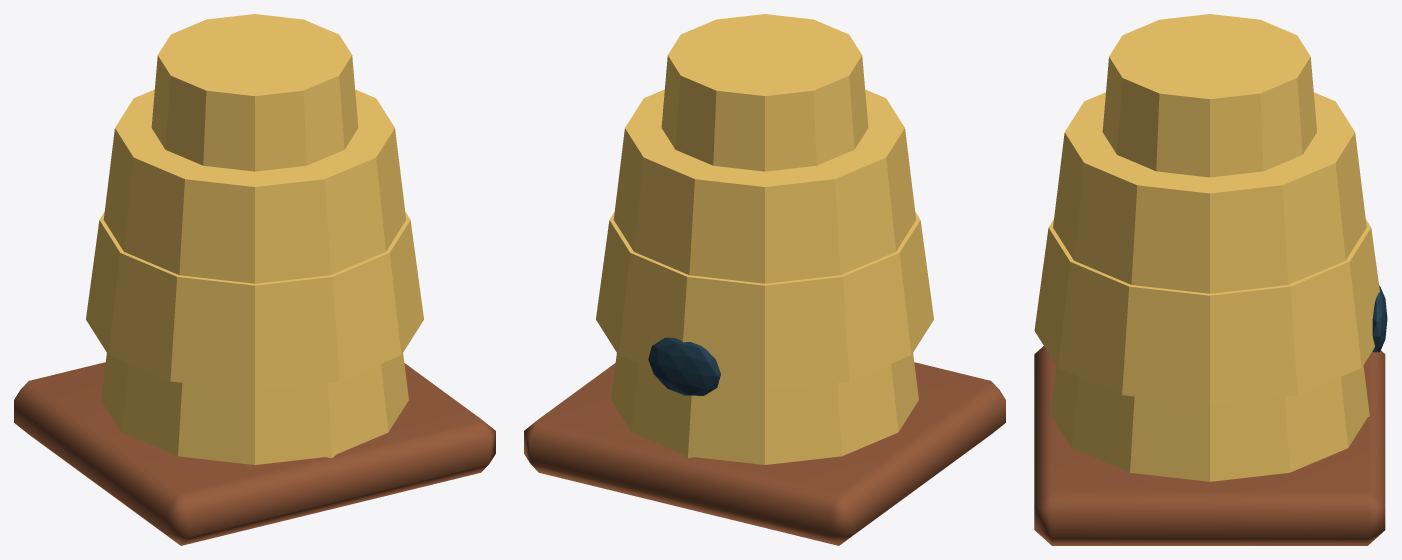
File: hive.glb
3 renders of one model, left to right at view 1: azimuth 30°, elevation 25°; view 2: azimuth 150°, elevation 25°; view 3: azimuth 270°, elevation 25°, orthographic. The views are drawn at different scales.
Parts seen in each view (by area): view 1: Hive ring.002, Hive ring.001, Stand, Hive ring.003, Hive ring; view 2: Hive ring.002, Stand, Hive ring.001, Hive ring.003, Hive ring, Entrance; view 3: Hive ring.002, Hive ring.001, Stand, Hive ring.003, Hive ring, Entrance.
Part boxes in pixels (x1,y1,x2,y2): Hive ring.002: (103, 89, 406, 283); Hive ring.001: (86, 212, 423, 390); Stand: (14, 362, 495, 545); Hive ring.003: (151, 14, 358, 171); Hive ring: (101, 353, 408, 464); Hive ring.002: (613, 89, 916, 283); Stand: (524, 362, 1005, 545); Hive ring.001: (596, 212, 933, 390); Hive ring.003: (661, 14, 868, 171); Hive ring: (611, 353, 918, 464); Entrance: (648, 337, 720, 395); Hive ring.002: (1053, 92, 1366, 293); Hive ring.001: (1034, 219, 1379, 404); Stand: (1034, 346, 1385, 545); Hive ring.003: (1102, 14, 1316, 177); Hive ring: (1050, 365, 1369, 481); Entrance: (1372, 285, 1387, 352).
Size of the model in its own units: 0.9 by 1.04 by 0.805.
